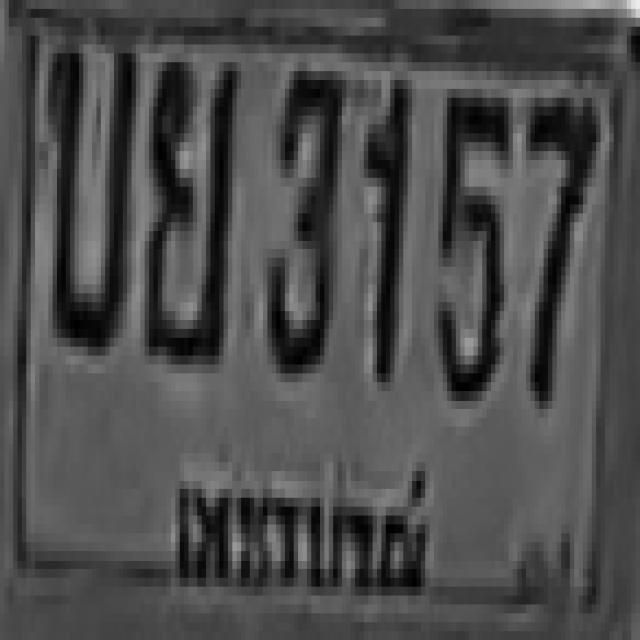1: (360, 75, 408, 378)
3: (263, 63, 342, 364)
35BorBaiMai: (39, 26, 136, 346)
43YorYak: (140, 54, 237, 356)
5: (432, 89, 506, 391)
7: (526, 89, 592, 400)
Phetchabun: (161, 443, 441, 622)
